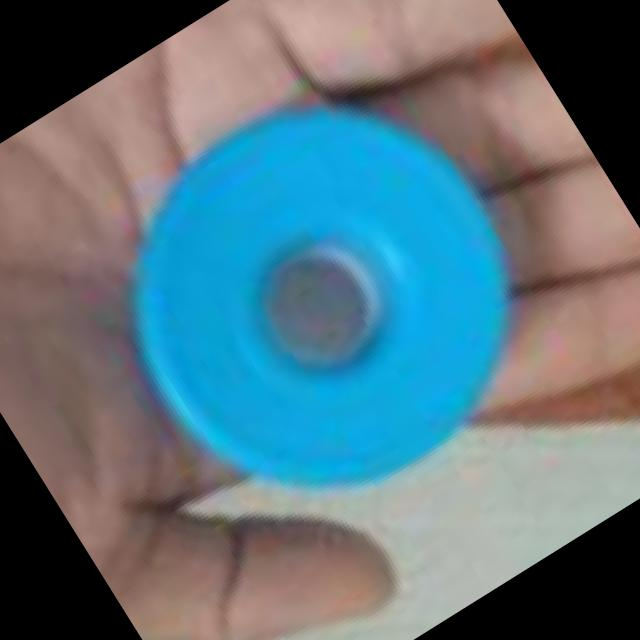Kardus: (50, 34, 598, 584)
